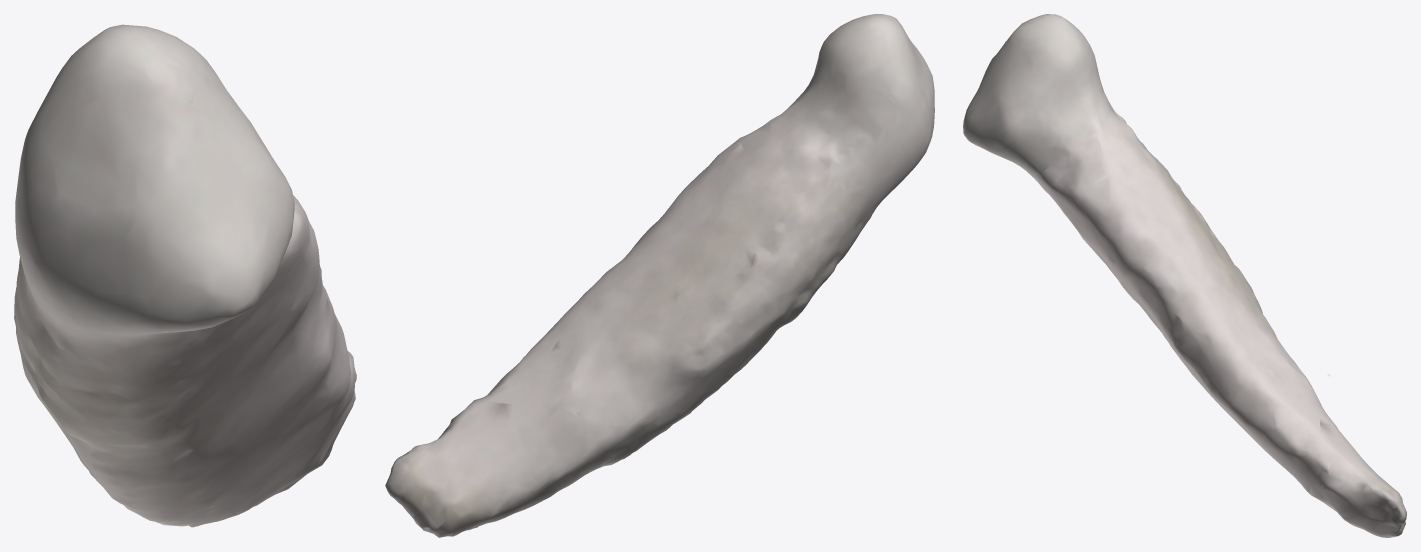
The picture shows the model from 3 angles, left to right: view 1: azimuth 30°, elevation 25°; view 2: azimuth 150°, elevation 25°; view 3: azimuth 270°, elevation 25°; orthographic projection. The views are drawn at different scales.
Visible parts, largest first — view 1: I3_li_unten_Katze.001; view 2: I3_li_unten_Katze.001; view 3: I3_li_unten_Katze.001.
Part boxes in pixels (left/top/right/bottom): I3_li_unten_Katze.001: left=14, top=24, right=356, bottom=527; I3_li_unten_Katze.001: left=385, top=14, right=934, bottom=537; I3_li_unten_Katze.001: left=963, top=14, right=1406, bottom=537.
Bounding box in the file's own units: 382 × 464 × 457.
Materials: 1 (1 with a texture image).
